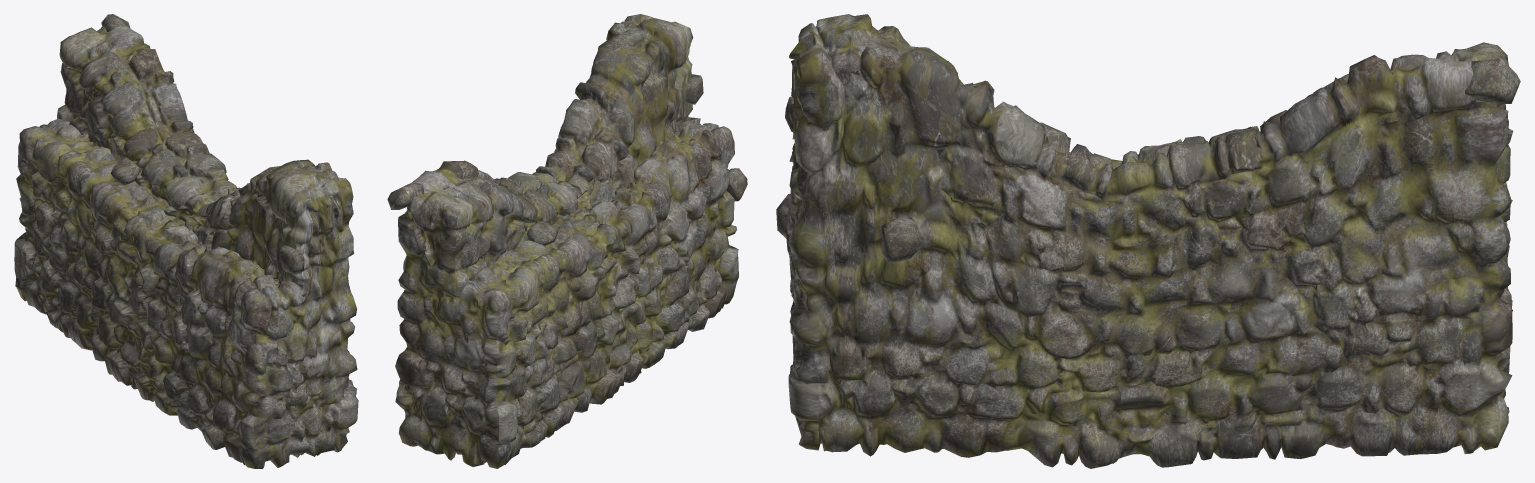
Rendered from SM_Wall_Stone_03.fbx.
3 renders of one model, left to right at view 1: azimuth 30°, elevation 25°; view 2: azimuth 150°, elevation 25°; view 3: azimuth 270°, elevation 25°, orthographic. The views are drawn at different scales.
Visible parts, largest first — view 1: SM_Wall_Stone_03_LOD0; view 2: SM_Wall_Stone_03_LOD0; view 3: SM_Wall_Stone_03_LOD0.
Boxes of the visible parts, bbox=[...] form: SM_Wall_Stone_03_LOD0: bbox=[14, 14, 358, 468]; SM_Wall_Stone_03_LOD0: bbox=[387, 14, 747, 468]; SM_Wall_Stone_03_LOD0: bbox=[776, 14, 1520, 468].
Size of the model in its own units: 159 by 528 by 327.
